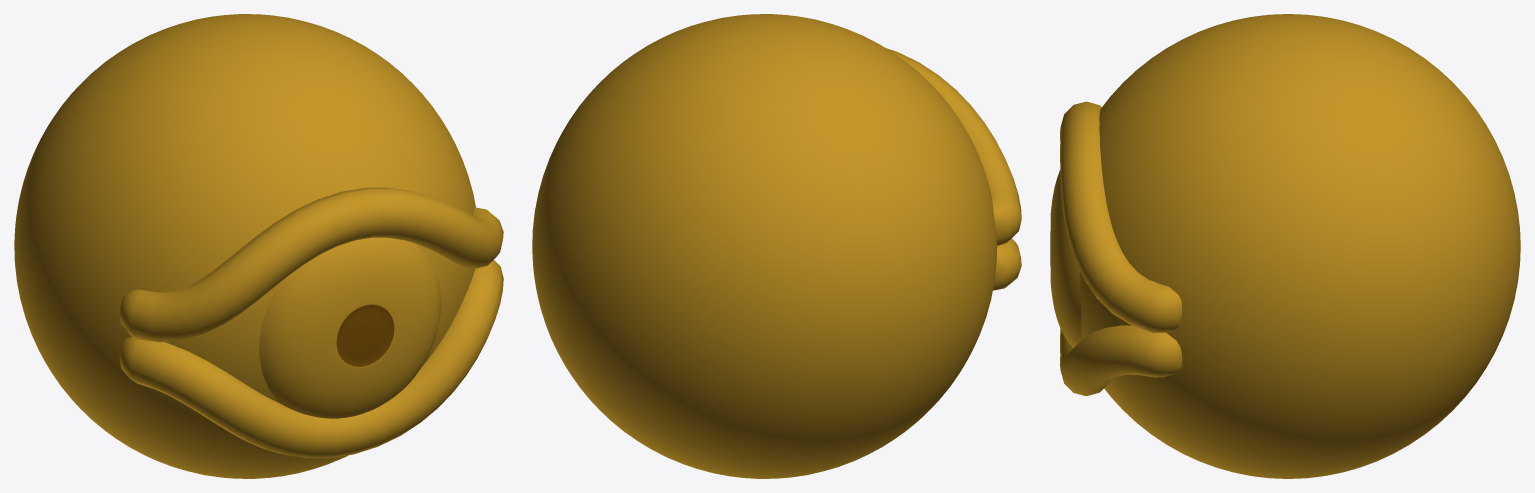
File: golden-eye.glb
3 views of the same model, side by side, from view 1: azimuth 30°, elevation 25°; view 2: azimuth 150°, elevation 25°; view 3: azimuth 270°, elevation 25° (orthographic).
Visible parts, largest first — view 1: Icosphere_0, Icosphere_1; view 2: Icosphere_0; view 3: Icosphere_0.
Boxes of the visible parts, <box> form: Icosphere_0: <box>14,14,503,478</box>; Icosphere_1: <box>336,304,394,366</box>; Icosphere_0: <box>532,14,1021,478</box>; Icosphere_0: <box>1050,14,1520,478</box>.
Size of the model in its own units: 0.5537 by 0.5537 by 0.56.
